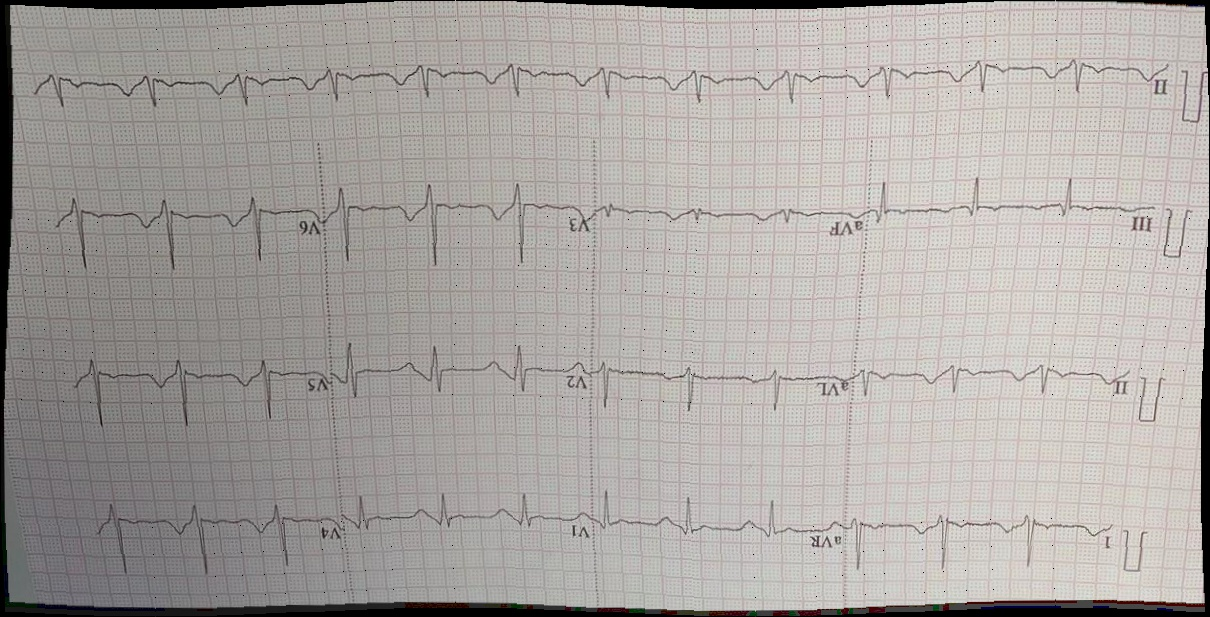Lead_I: (845, 485, 1128, 592)
Lead_II: (857, 343, 1140, 424)
Lead_III: (865, 162, 1166, 251)
Lead_II_ext: (15, 26, 1182, 125)
Lead_V1: (341, 487, 601, 557)
Lead_V2: (327, 340, 594, 419)
Lead_V3: (314, 161, 592, 280)
Lead_V4: (87, 475, 345, 591)
Lead_V5: (60, 337, 339, 438)
Lead_V6: (34, 171, 322, 277)
Lead_aVF: (587, 187, 867, 258)
Lead_aVL: (589, 343, 859, 427)
Lead_aVR: (596, 474, 847, 579)
